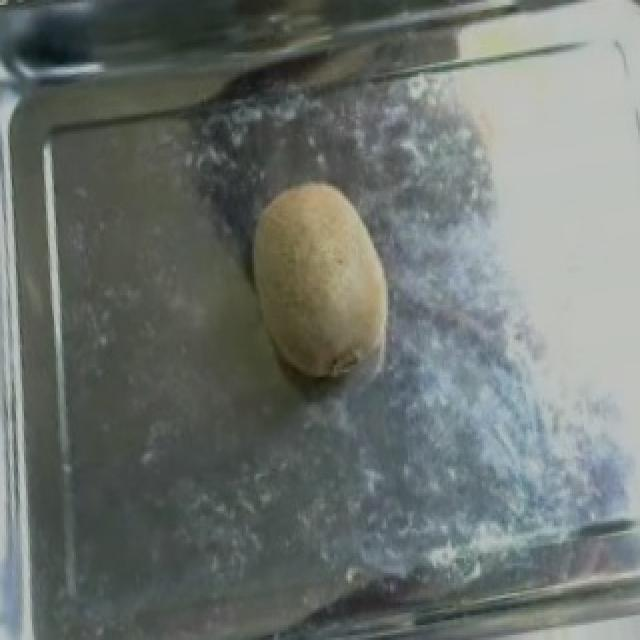Fruit: (232, 164, 416, 394)
